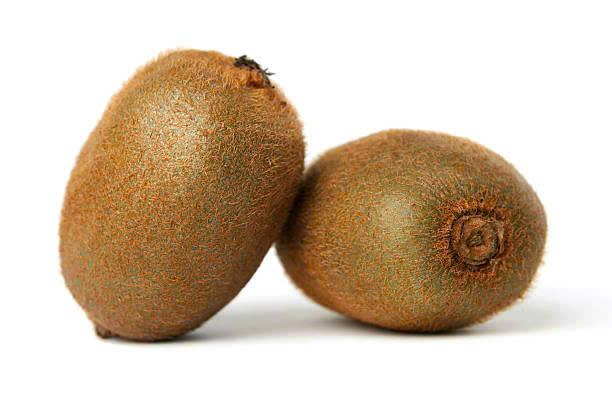kiwi: (56, 45, 286, 343), (297, 119, 550, 337)
